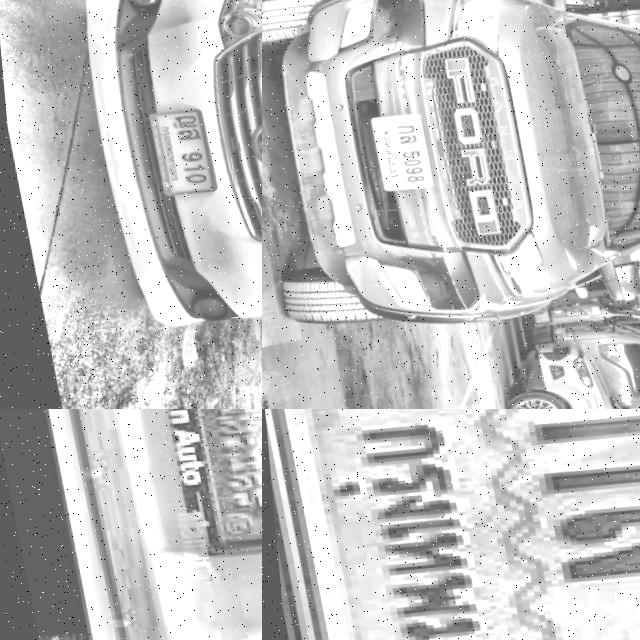license-plate: (262, 409, 640, 640), (123, 409, 262, 565), (137, 105, 213, 199), (361, 110, 429, 192)
